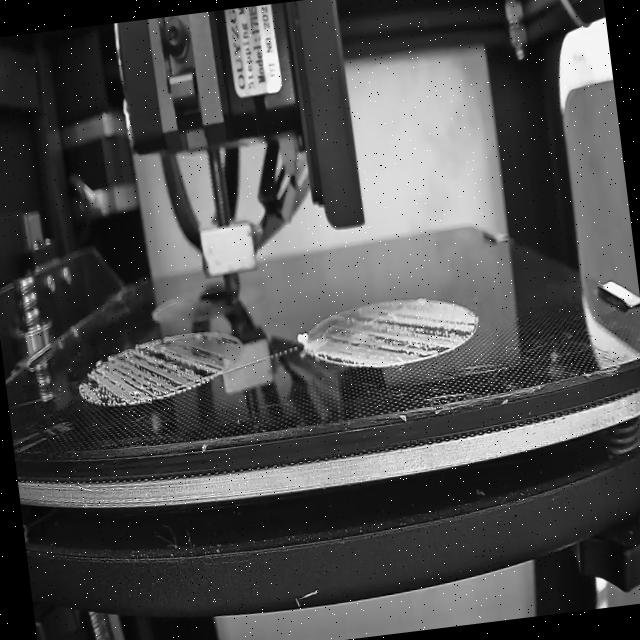under_extrusion: (75, 327, 242, 408), (310, 301, 478, 371)
